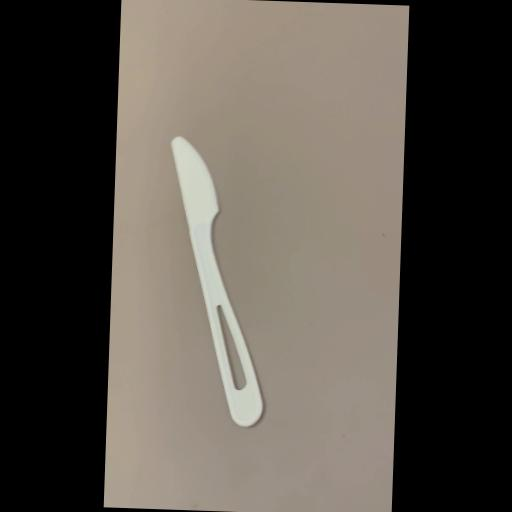utensil: (160, 134, 276, 429)
